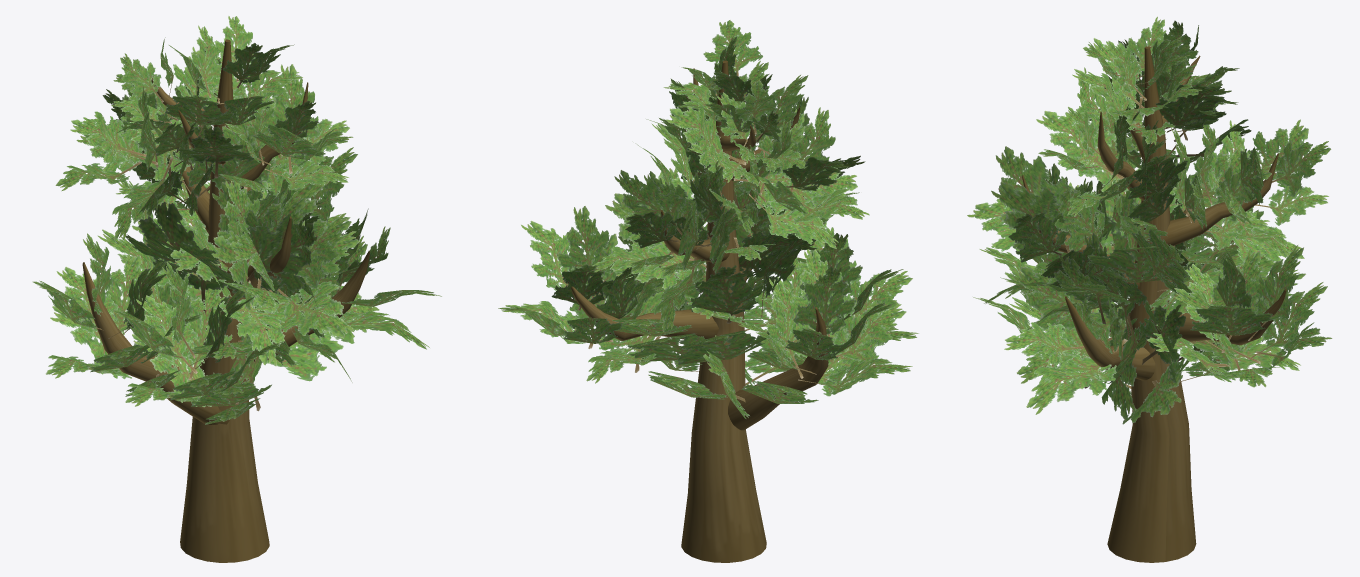
3 renders of one model, left to right at view 1: azimuth 30°, elevation 25°; view 2: azimuth 150°, elevation 25°; view 3: azimuth 270°, elevation 25°, orthographic. The views are drawn at different scales.
Parts seen in each view (by area): view 1: pasted__pasted__pasted__pasted__pasted__pasted__pasted__past, pCylinder3; view 2: pasted__pasted__pasted__pasted__pasted__pasted__pasted__past, pCylinder3; view 3: pasted__pasted__pasted__pasted__pasted__pasted__pasted__past, pCylinder3.
Part boxes in pixels (<box>): pasted__pasted__pasted__pasted__pasted__pasted__pasted__past: <box>32,16,441,424</box>; pCylinder3: <box>82,39,370,562</box>; pasted__pasted__pasted__pasted__pasted__pasted__pasted__past: <box>498,20,918,418</box>; pCylinder3: <box>568,60,828,562</box>; pasted__pasted__pasted__pasted__pasted__pasted__pasted__past: <box>967,16,1332,424</box>; pCylinder3: <box>1022,46,1286,562</box>.
Size of the model in its own units: 18.07 by 24.06 by 16.42.
Materials: 2 (2 with a texture image).
